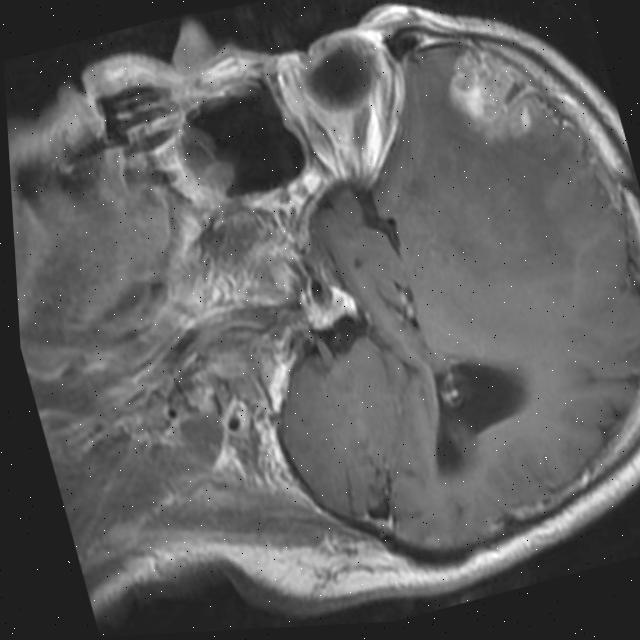Meningioma: (437, 34, 553, 153)
